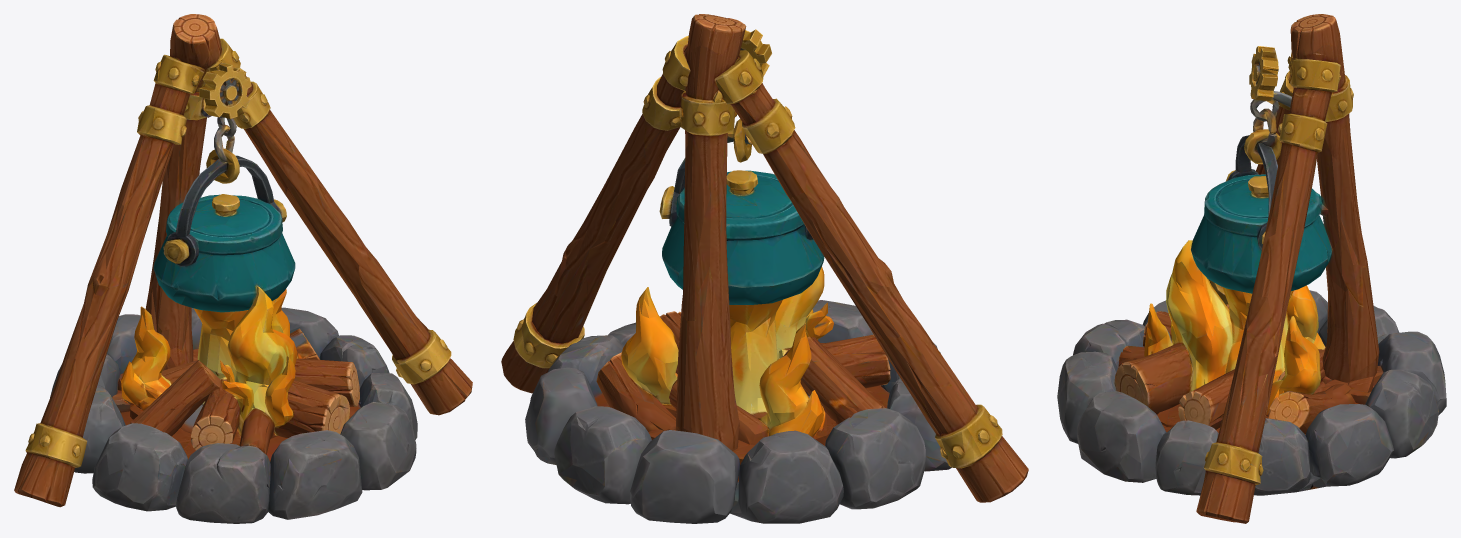
The model's file is shelter_campfire.glb.
3 views of the same model, side by side, from view 1: azimuth 30°, elevation 25°; view 2: azimuth 150°, elevation 25°; view 3: azimuth 270°, elevation 25° (orthographic). The views are drawn at different scales.
Parts seen in each view (by area): view 1: output_unwrapped; view 2: output_unwrapped; view 3: output_unwrapped.
Boxes of the visible parts, bbox=[...] form: output_unwrapped: bbox=[14, 14, 472, 523]; output_unwrapped: bbox=[501, 14, 1028, 523]; output_unwrapped: bbox=[1057, 14, 1446, 523].
Size of the model in its own units: 1.9 by 1.63 by 1.41.
1 material, 1 textured.
